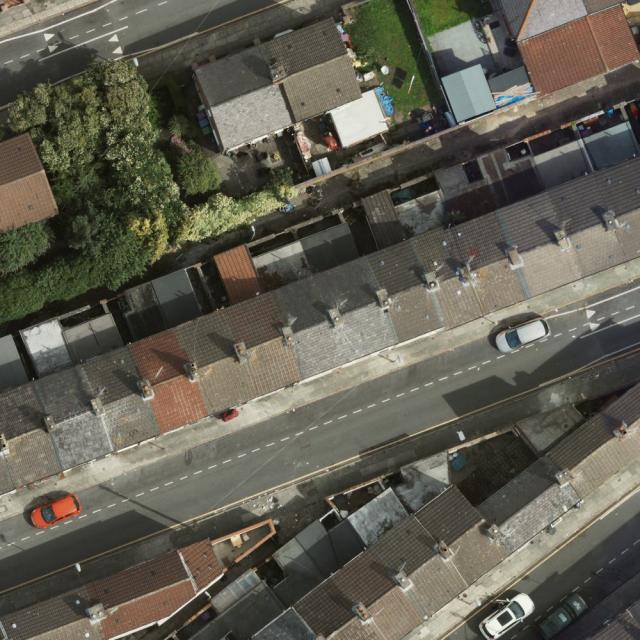roof: (1, 120, 640, 496), (183, 384, 640, 640), (194, 17, 389, 152), (0, 539, 223, 640), (499, 0, 640, 97), (0, 131, 58, 236), (556, 570, 640, 639)
